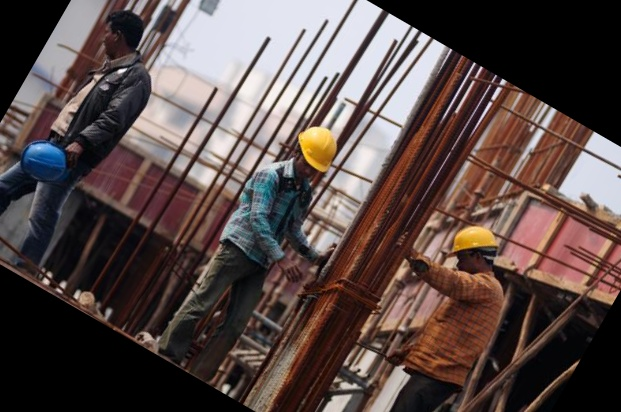NOTSAFE: (60, 13, 147, 157)
NoJacket: (224, 123, 339, 262), (420, 225, 503, 385)
